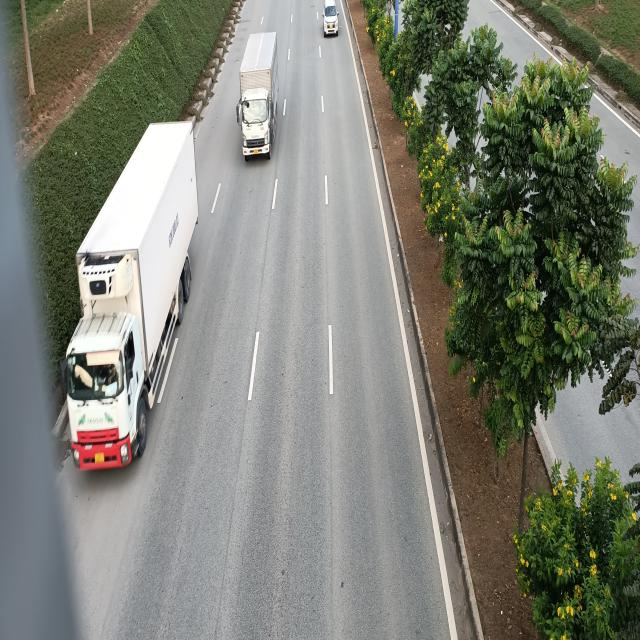car: (322, 0, 338, 36)
truck: (56, 118, 197, 471), (238, 30, 279, 160)
